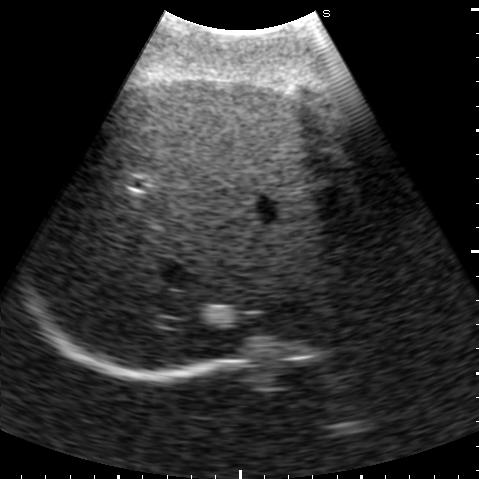S5: (105, 78, 332, 183)
S7: (39, 158, 165, 304)
S8: (69, 155, 379, 368)
Tumor: (197, 304, 238, 324)
